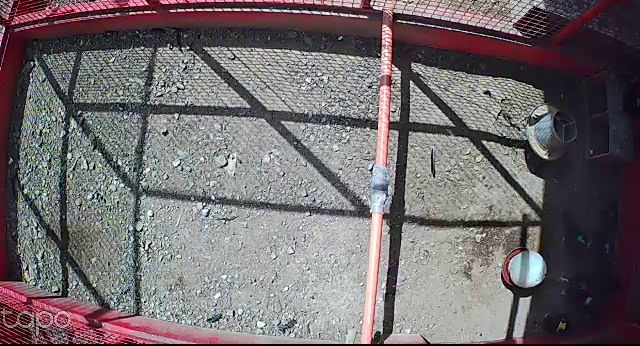Chicken: (542, 312, 586, 338)
Drinker: (500, 245, 550, 291)
Feeder: (524, 101, 578, 163)
Saddle_Color_Yellow: (558, 322, 567, 330)
